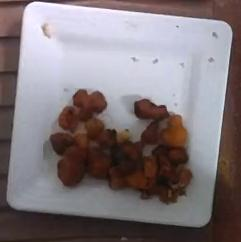sweet_potato: (97, 99, 192, 203)
